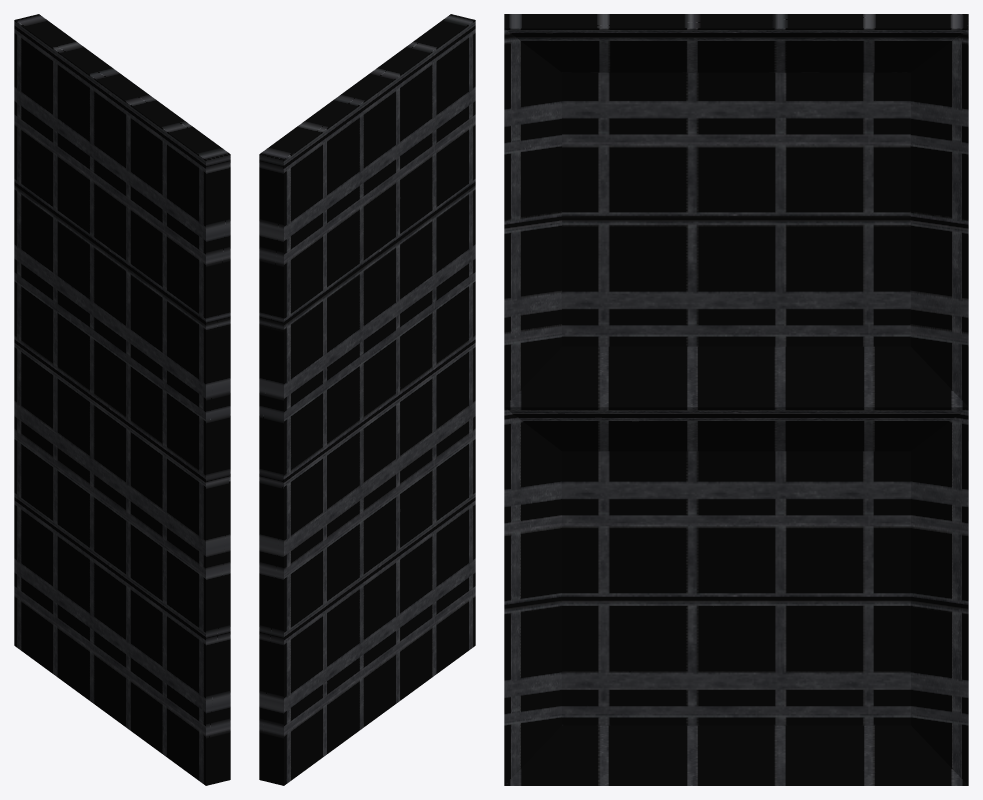
Rendered from Rack_cover.fbx.
3 renders of one model, left to right at view 1: azimuth 30°, elevation 25°; view 2: azimuth 150°, elevation 25°; view 3: azimuth 270°, elevation 25°, orthographic. The views are drawn at different scales.
Parts seen in each view (by area): view 1: cover; view 2: cover; view 3: cover.
Part boxes in pixels (box(x1,y1,x2,y2)): cover: box(14, 14, 230, 785); cover: box(259, 14, 475, 785); cover: box(504, 14, 968, 785).
Bounding box in the file's own units: 14.87 × 360 × 200.
Materials: 1 (1 with a texture image).
